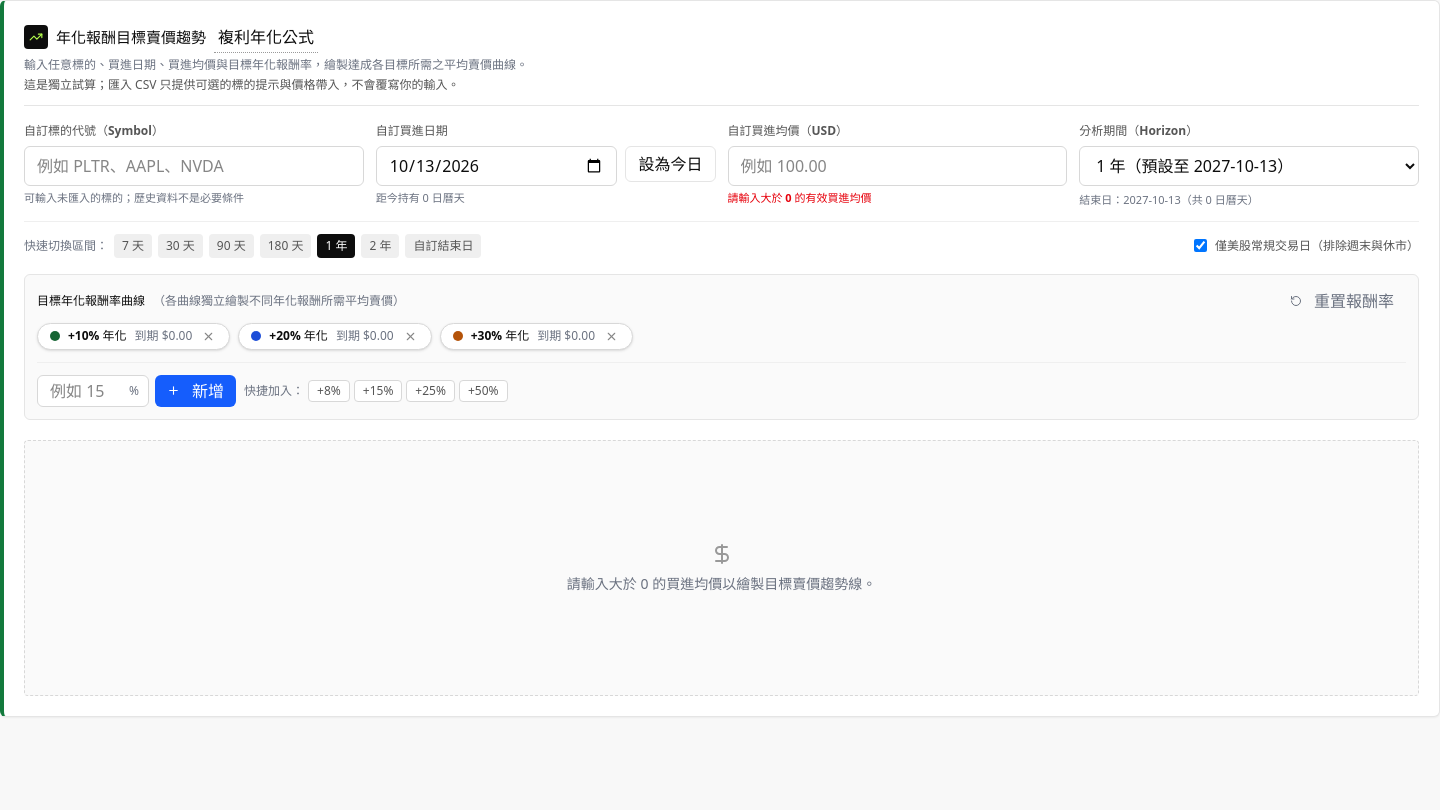
Test: AnnualizedReturnPanel › allows removing an existing return rate
Click the button named "移除 10% 年化目標" at (209, 336), box left=200, top=328, right=217, bottom=344
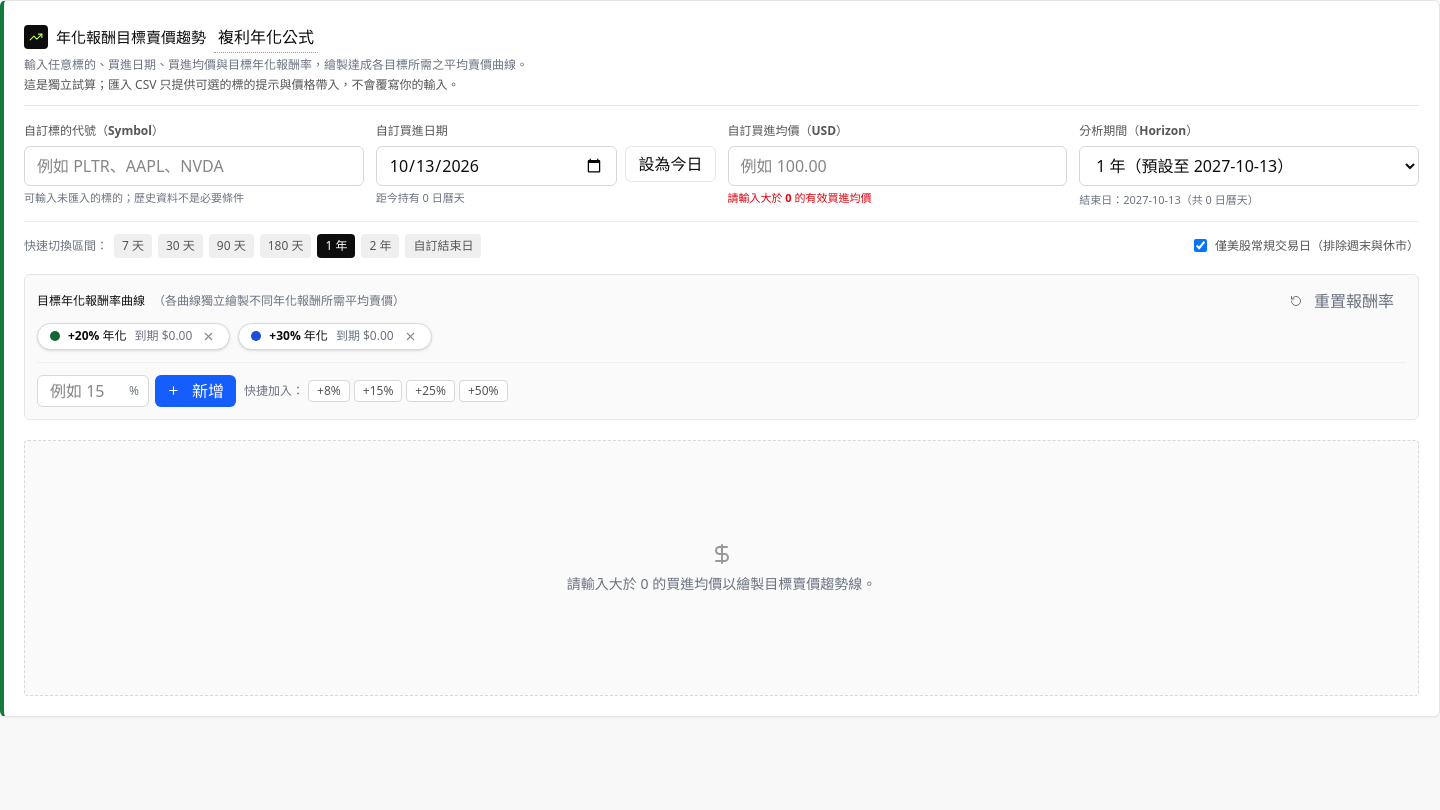
expect the text "+10% 年化" is not shown: met
